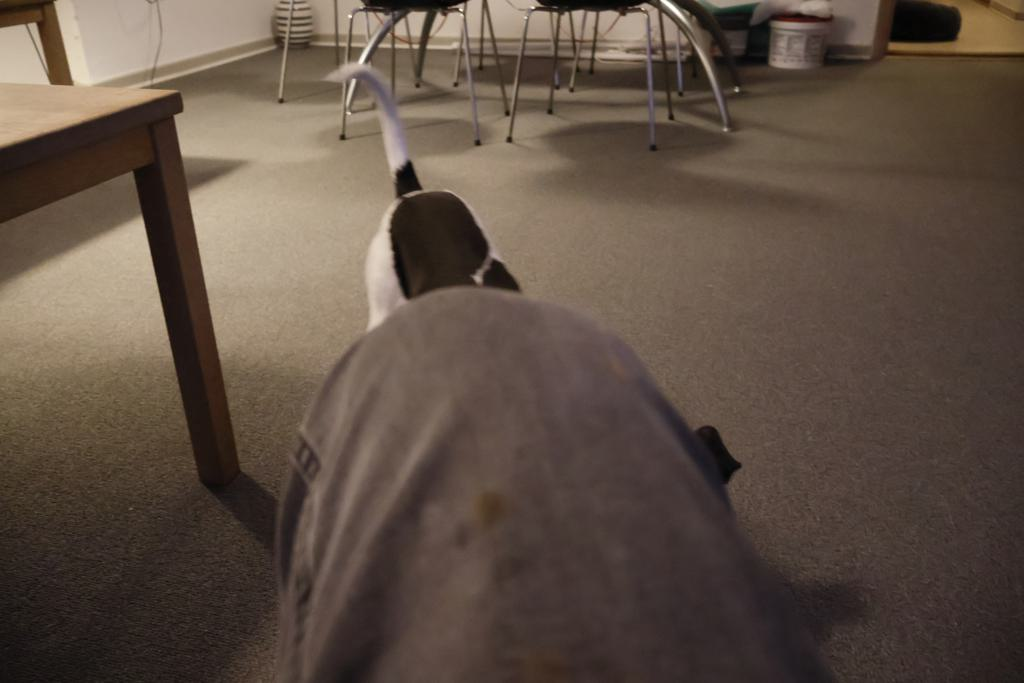Dog: (320, 50, 755, 507)
Humanoid: (250, 256, 848, 683)
